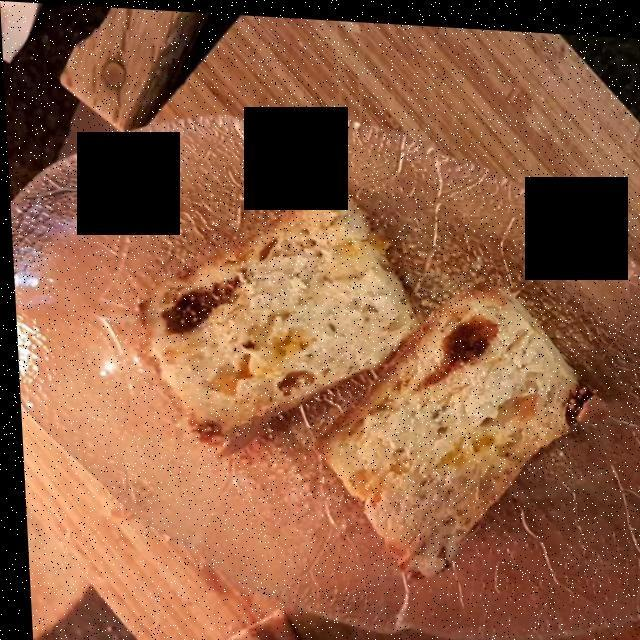bread: (327, 295, 583, 567), (150, 186, 410, 440)
